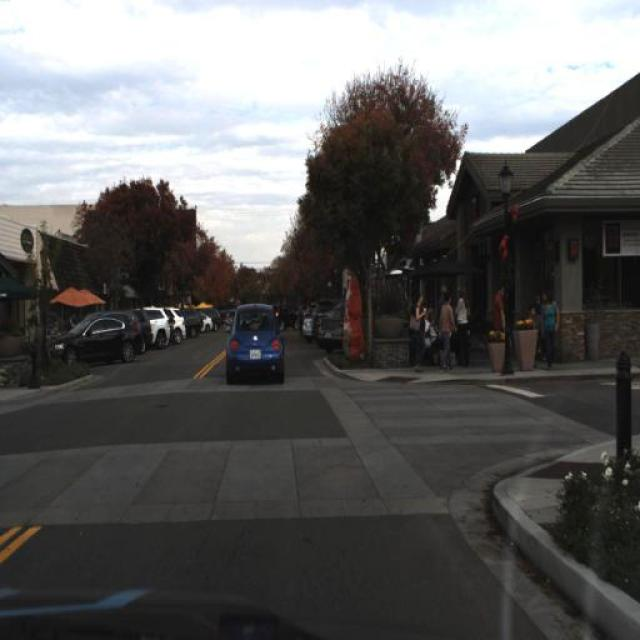car: (222, 295, 288, 385), (54, 311, 144, 367), (146, 304, 172, 352), (318, 305, 342, 353), (304, 301, 330, 341), (135, 304, 150, 352), (276, 305, 295, 336), (170, 301, 186, 337), (187, 300, 201, 335), (212, 310, 224, 334), (203, 313, 214, 337)
trafficLight: (538, 286, 560, 370), (455, 283, 471, 372), (424, 308, 440, 366), (526, 303, 540, 363), (496, 281, 506, 364), (441, 296, 452, 365), (414, 296, 424, 364), (298, 301, 304, 335)
